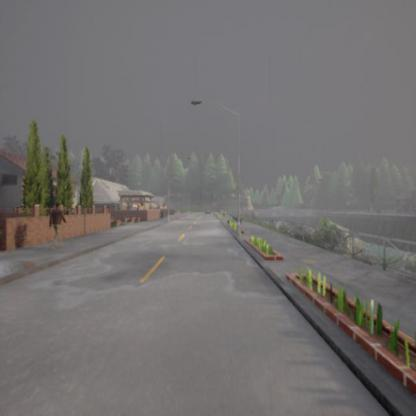person: (49, 204, 66, 249)
